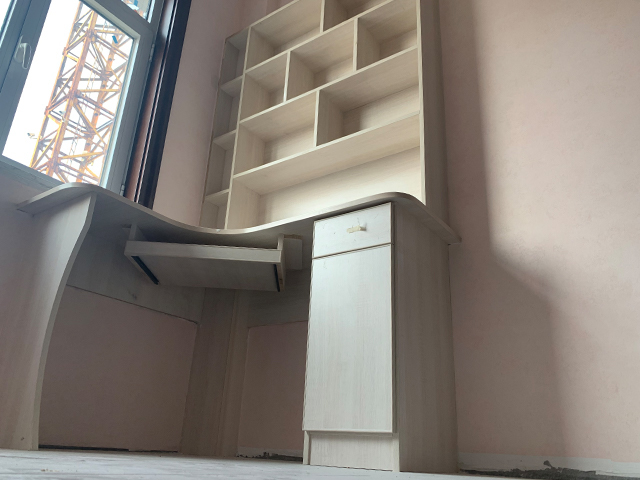table: (1, 185, 459, 475)
